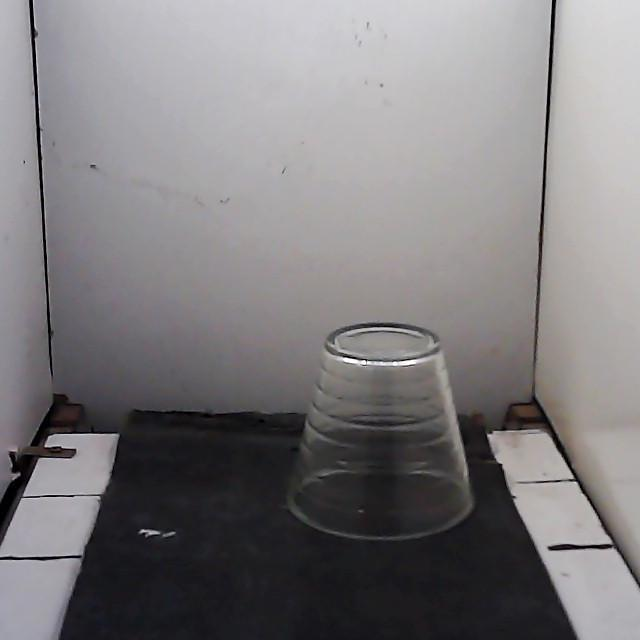vidro: (287, 323, 473, 539)
